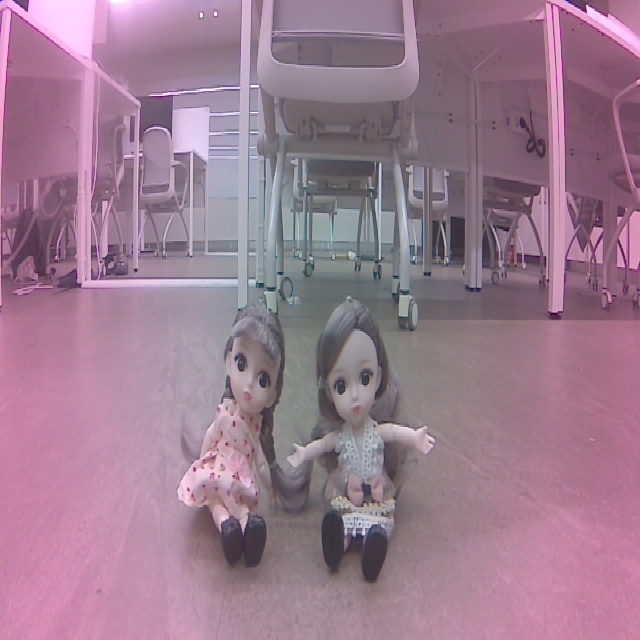장애물: (173, 299, 295, 575)
